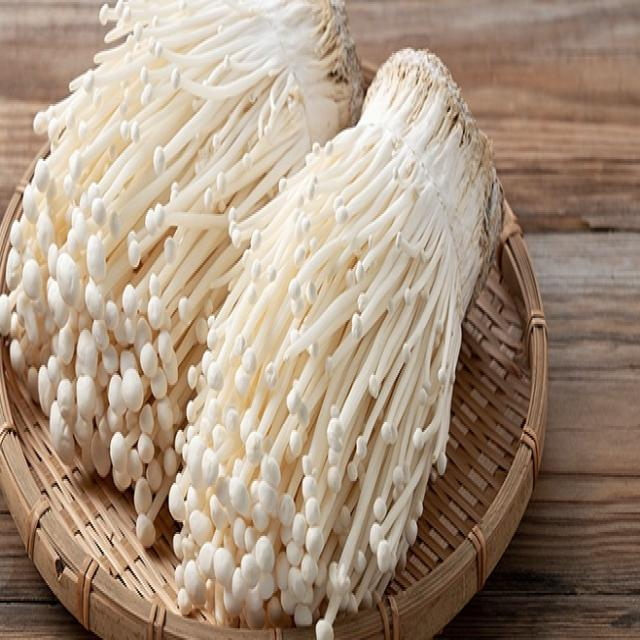Mushroom: (12, 0, 498, 611), (77, 70, 280, 450)
